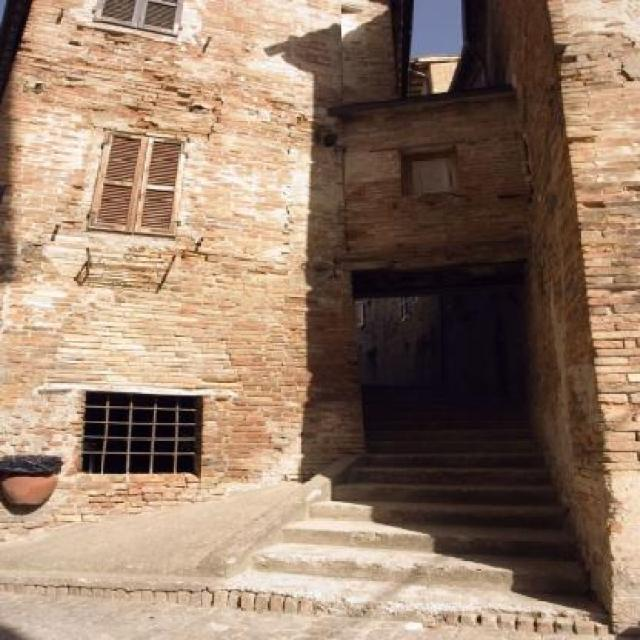stair: (250, 384, 596, 594)
